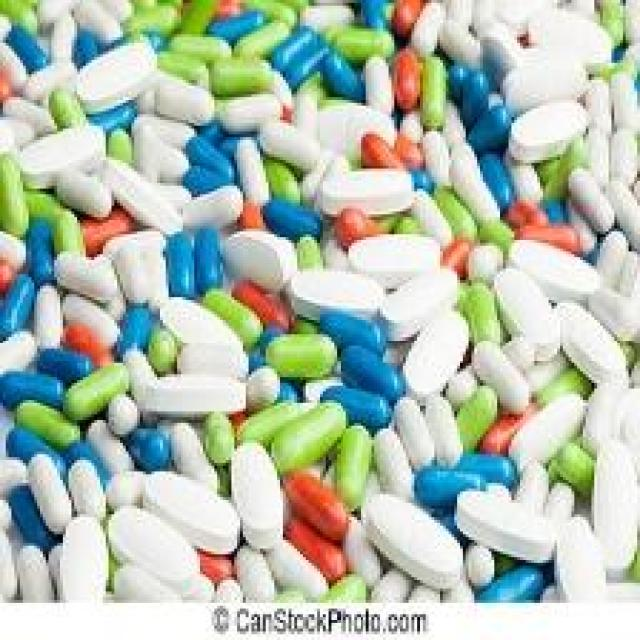Medicine: (0, 0, 640, 600)
